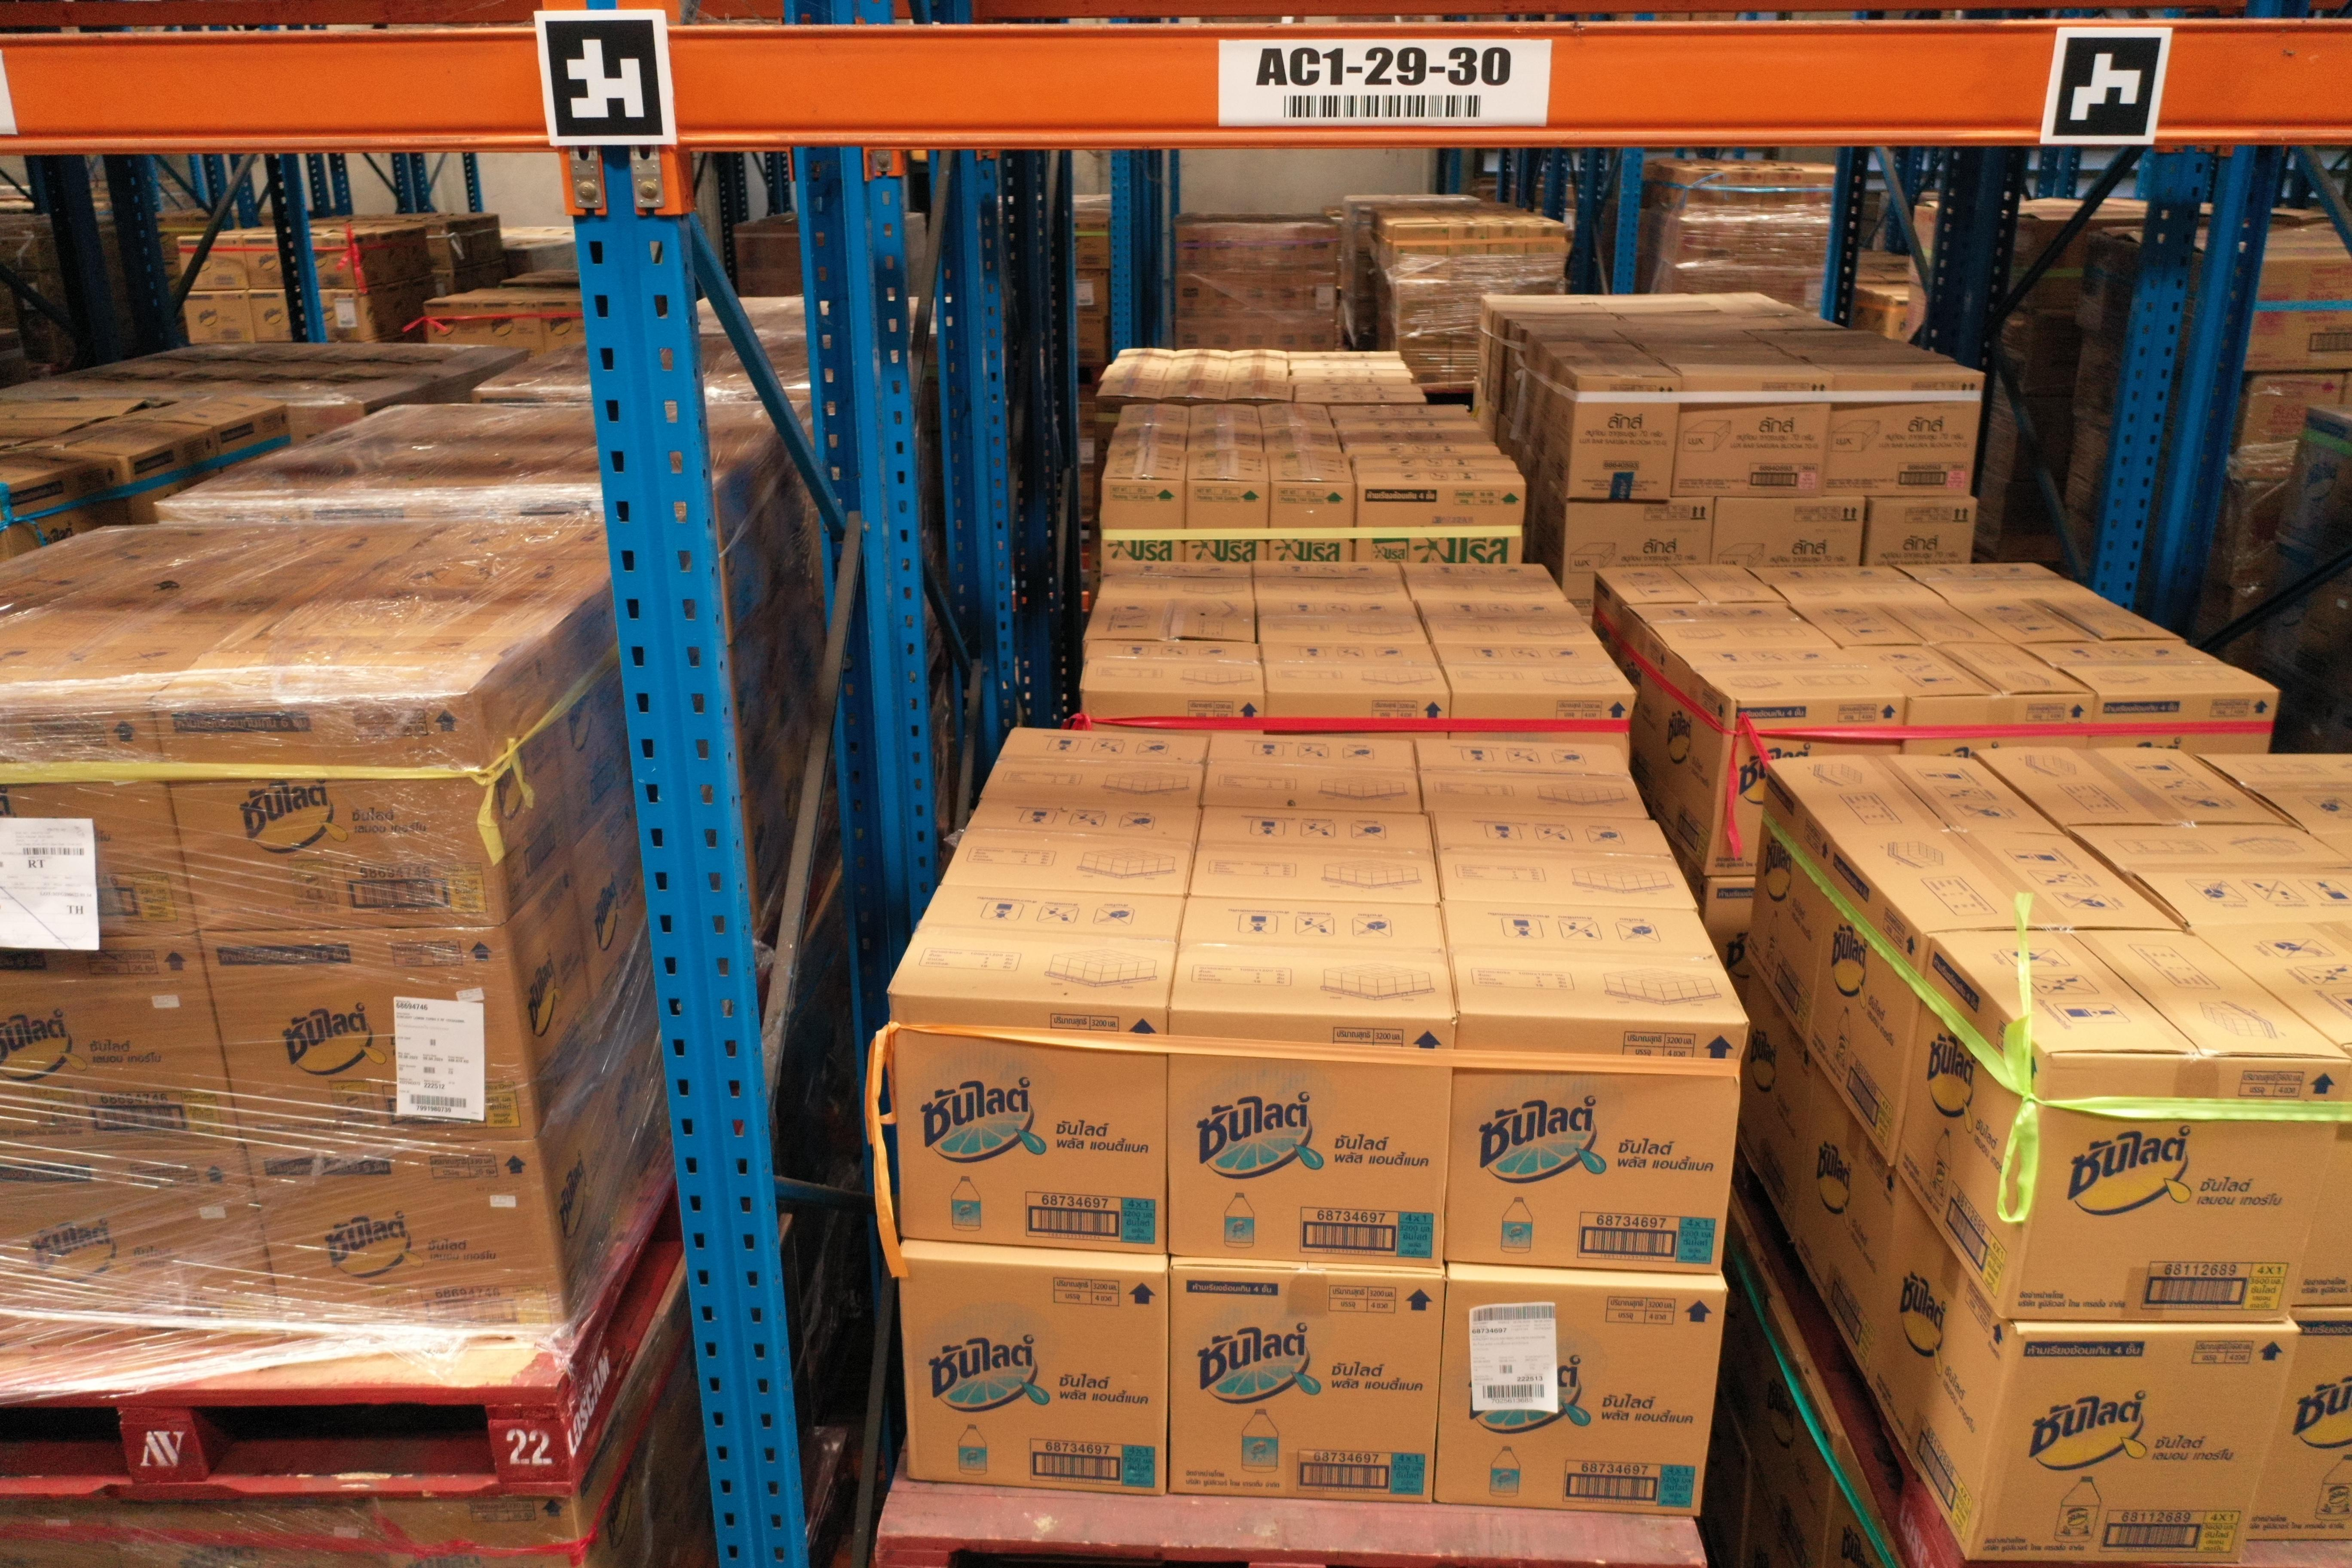-: (2011, 1057, 2352, 1326), (154, 689, 506, 934), (1444, 1010, 1750, 1274), (1967, 1326, 2301, 1568), (1167, 1010, 1458, 1270), (196, 926, 535, 1148), (887, 989, 1169, 1256), (1435, 1276, 1727, 1517), (1169, 1265, 1444, 1508), (896, 1256, 1167, 1500), (241, 1137, 569, 1339), (0, 931, 241, 1158), (0, 1143, 280, 1339), (0, 707, 198, 945), (2250, 1309, 2352, 1543), (303, 1494, 591, 1568), (105, 1496, 317, 1568), (0, 1500, 121, 1568)
2: (1676, 369, 1830, 502), (1820, 374, 1981, 500), (1564, 371, 1685, 502), (1349, 481, 1524, 569), (1101, 478, 1186, 572), (1185, 478, 1272, 565), (1269, 481, 1354, 563)
